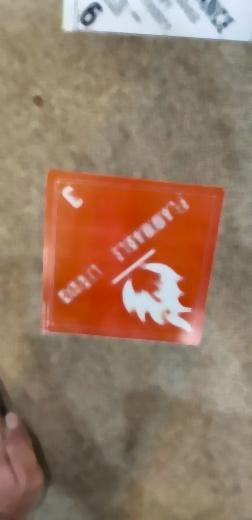flammable: (41, 168, 226, 347)
